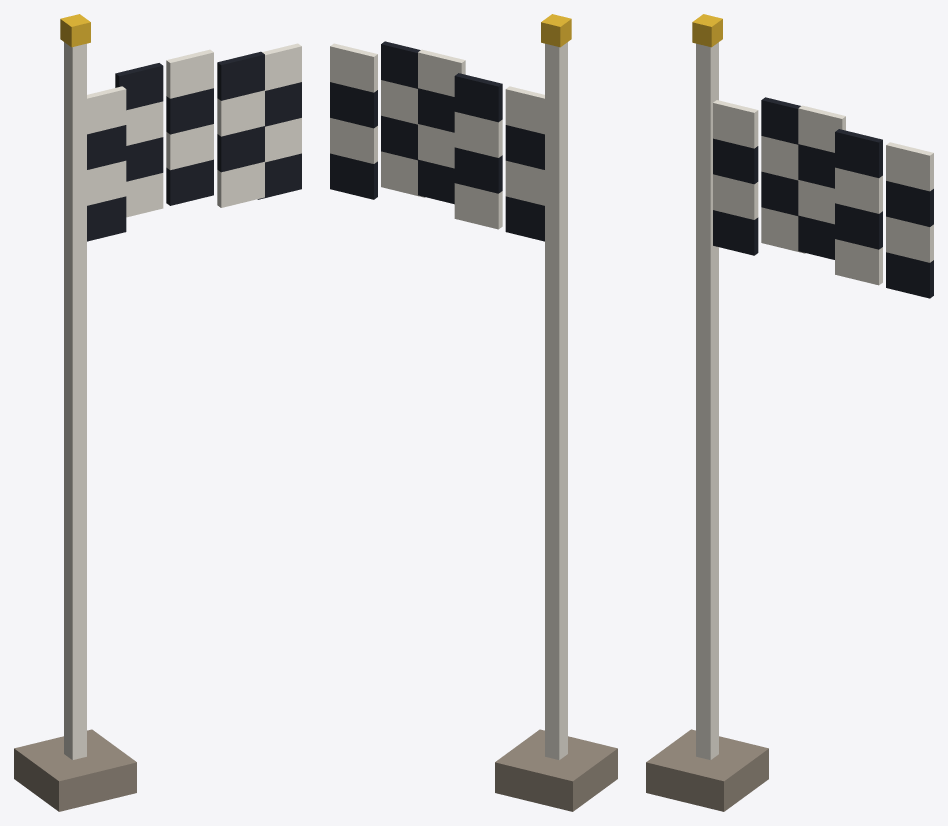
The model's file is flagPole.glb.
3 renders of one model, left to right at view 1: azimuth 30°, elevation 25°; view 2: azimuth 150°, elevation 25°; view 3: azimuth 330°, elevation 25°, orthographic.
Parts seen in each view (by area): view 1: flagPole_white, flagPole_black, flagPole_concreteDark, flagPole_yellow; view 2: flagPole_white, flagPole_black, flagPole_concreteDark, flagPole_yellow; view 3: flagPole_white, flagPole_black, flagPole_concreteDark, flagPole_yellow.
Boxes of the visible parts, bbox=[...] form: flagPole_white: bbox=[64, 42, 301, 760]; flagPole_black: bbox=[87, 51, 301, 241]; flagPole_concreteDark: bbox=[14, 729, 136, 811]; flagPole_yellow: bbox=[60, 14, 90, 47]; flagPole_white: bbox=[330, 42, 567, 760]; flagPole_black: bbox=[330, 41, 544, 241]; flagPole_concreteDark: bbox=[495, 729, 617, 811]; flagPole_yellow: bbox=[541, 14, 571, 47]; flagPole_white: bbox=[696, 42, 933, 759]; flagPole_black: bbox=[713, 97, 933, 298]; flagPole_concreteDark: bbox=[646, 729, 768, 811]; flagPole_yellow: bbox=[692, 14, 722, 47].
Size of the model in its own units: 5.4 by 15 by 1.6.
